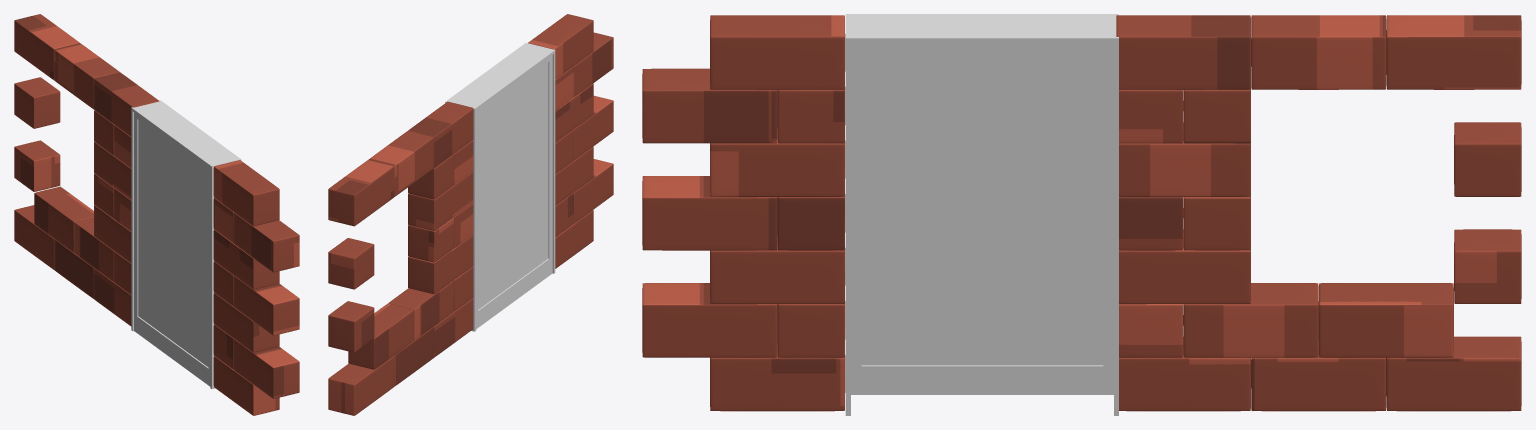
The picture shows the model from 3 angles, left to right: view 1: azimuth 30°, elevation 25°; view 2: azimuth 150°, elevation 25°; view 3: azimuth 270°, elevation 25°; orthographic projection. The views are drawn at different scales.
Parts seen in each view (by area): view 1: Plane001, PivotDoor001; view 2: Plane001, PivotDoor001; view 3: Plane001, PivotDoor001.
Boxes of the visible parts, box(x1,y1,x2,y2) form: Plane001: box(14, 14, 299, 415); PivotDoor001: box(131, 100, 241, 389); Plane001: box(328, 14, 613, 415); PivotDoor001: box(445, 43, 555, 331); Plane001: box(642, 15, 1521, 411); PivotDoor001: box(845, 14, 1118, 415).
Size of the model in its own units: 0.22 by 1.59 by 3.35.
